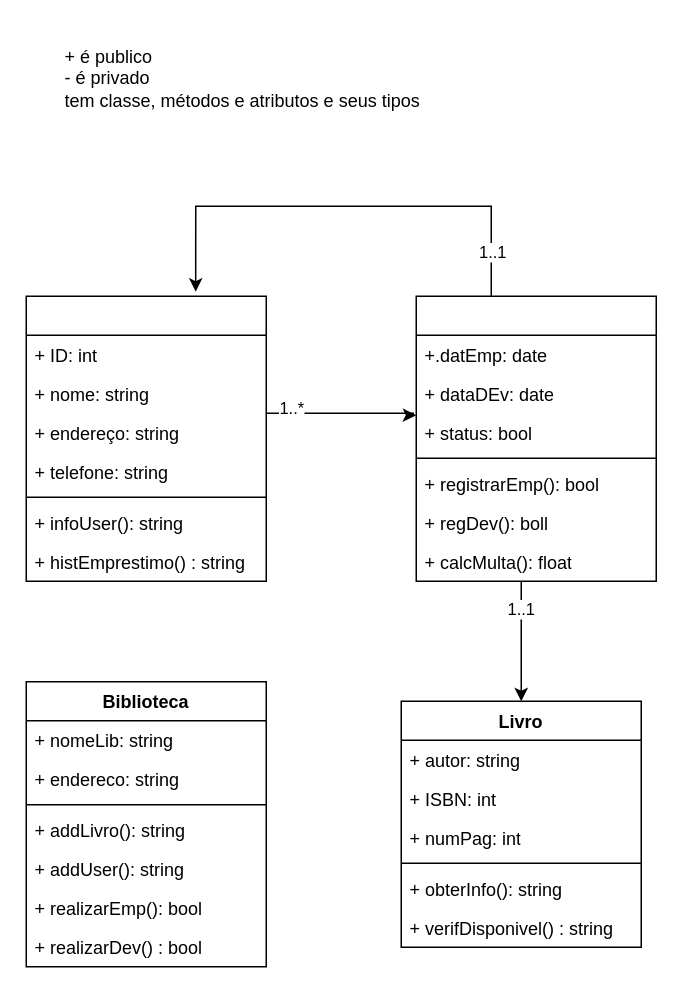
This 683x996 diagram has some shape labels left out. Here are the shapes that lost their labels. From the top down, the box of each, then its label:
(25, 295, 266, 581): Usuário
(415, 295, 656, 581): Emprestimo
